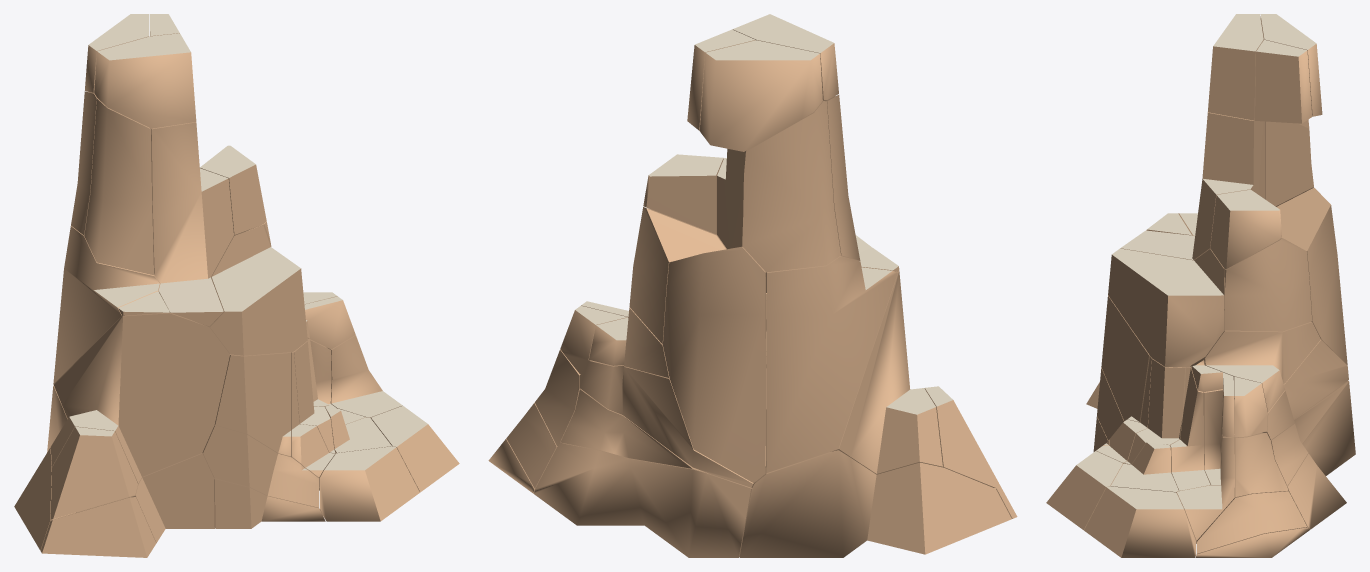
The model's file is formationLarge_rock_destruct.fbx.
3 renders of one model, left to right at view 1: azimuth 30°, elevation 25°; view 2: azimuth 150°, elevation 25°; view 3: azimuth 270°, elevation 25°, orthographic. The views are drawn at different scales.
Parts seen in each view (by area): view 1: formationLarge_rock_cell.074, formationLarge_rock_cell.076, formationLarge_rock_cell.093, formationLarge_rock_cell.090, formationLarge_rock_cell.068, formationLarge_rock_cell.078, formationLarge_rock_cell.099, formationLarge_rock_cell.102, formationLarge_rock_cell.084, formationLarge_rock_cell.092, formationLarge_rock_cell.083, formationLarge_rock_cell.080 (+14 smaller); view 2: formationLarge_rock_cell.075, formationLarge_rock_cell.078, formationLarge_rock_cell.069, formationLarge_rock_cell.097, formationLarge_rock_cell.072, formationLarge_rock_cell.098, formationLarge_rock_cell.074, formationLarge_rock_cell.071, formationLarge_rock_cell.100, formationLarge_rock_cell.086, formationLarge_rock_cell.070, formationLarge_rock_cell.087 (+9 smaller); view 3: formationLarge_rock_cell.090, formationLarge_rock_cell.076, formationLarge_rock_cell.100, formationLarge_rock_cell.004, formationLarge_rock_cell.069, formationLarge_rock_cell.087, formationLarge_rock_cell.097, formationLarge_rock_cell.068, formationLarge_rock_cell.088, formationLarge_rock_cell.086, formationLarge_rock_cell.099, formationLarge_rock_cell.094 (+17 smaller).
Part boxes in pixels (left/top/right/bottom): formationLarge_rock_cell.074: left=50, top=312, right=229, bottom=483; formationLarge_rock_cell.076: left=150, top=122, right=233, bottom=326; formationLarge_rock_cell.093: left=84, top=98, right=153, bottom=275; formationLarge_rock_cell.090: left=195, top=225, right=307, bottom=355; formationLarge_rock_cell.068: left=94, top=33, right=196, bottom=128; formationLarge_rock_cell.078: left=53, top=226, right=160, bottom=384; formationLarge_rock_cell.099: left=214, top=352, right=291, bottom=456; formationLarge_rock_cell.102: left=319, top=446, right=419, bottom=521; formationLarge_rock_cell.084: left=50, top=426, right=137, bottom=519; formationLarge_rock_cell.092: left=202, top=425, right=318, bottom=507; formationLarge_rock_cell.083: left=40, top=497, right=156, bottom=557; formationLarge_rock_cell.080: left=77, top=453, right=214, bottom=542; formationLarge_rock_cell.075: left=739, top=450, right=1011, bottom=557; formationLarge_rock_cell.078: left=766, top=256, right=897, bottom=472; formationLarge_rock_cell.069: left=663, top=246, right=765, bottom=483; formationLarge_rock_cell.097: left=533, top=443, right=751, bottom=557; formationLarge_rock_cell.072: left=742, top=101, right=840, bottom=272; formationLarge_rock_cell.098: left=699, top=40, right=822, bottom=151; formationLarge_rock_cell.074: left=766, top=271, right=942, bottom=474; formationLarge_rock_cell.071: left=579, top=360, right=765, bottom=487; formationLarge_rock_cell.100: left=629, top=207, right=726, bottom=344; formationLarge_rock_cell.086: left=643, top=154, right=723, bottom=234; formationLarge_rock_cell.070: left=560, top=389, right=720, bottom=477; formationLarge_rock_cell.087: left=589, top=307, right=766, bottom=377; formationLarge_rock_cell.090: left=1108, top=248, right=1224, bottom=367; formationLarge_rock_cell.076: left=1120, top=112, right=1265, bottom=277; formationLarge_rock_cell.100: left=1225, top=238, right=1312, bottom=331; formationLarge_rock_cell.004: left=1084, top=486, right=1196, bottom=557; formationLarge_rock_cell.069: left=1276, top=187, right=1347, bottom=365; formationLarge_rock_cell.087: left=1201, top=310, right=1320, bottom=411; formationLarge_rock_cell.097: left=1287, top=382, right=1355, bottom=529; formationLarge_rock_cell.068: left=1208, top=14, right=1263, bottom=120; formationLarge_rock_cell.088: left=1255, top=39, right=1312, bottom=123; formationLarge_rock_cell.086: left=1210, top=189, right=1281, bottom=268; formationLarge_rock_cell.099: left=1101, top=295, right=1150, bottom=422; formationLarge_rock_cell.094: left=1197, top=491, right=1306, bottom=554.
Size of the model in its own units: 136 by 138 by 94.68.
